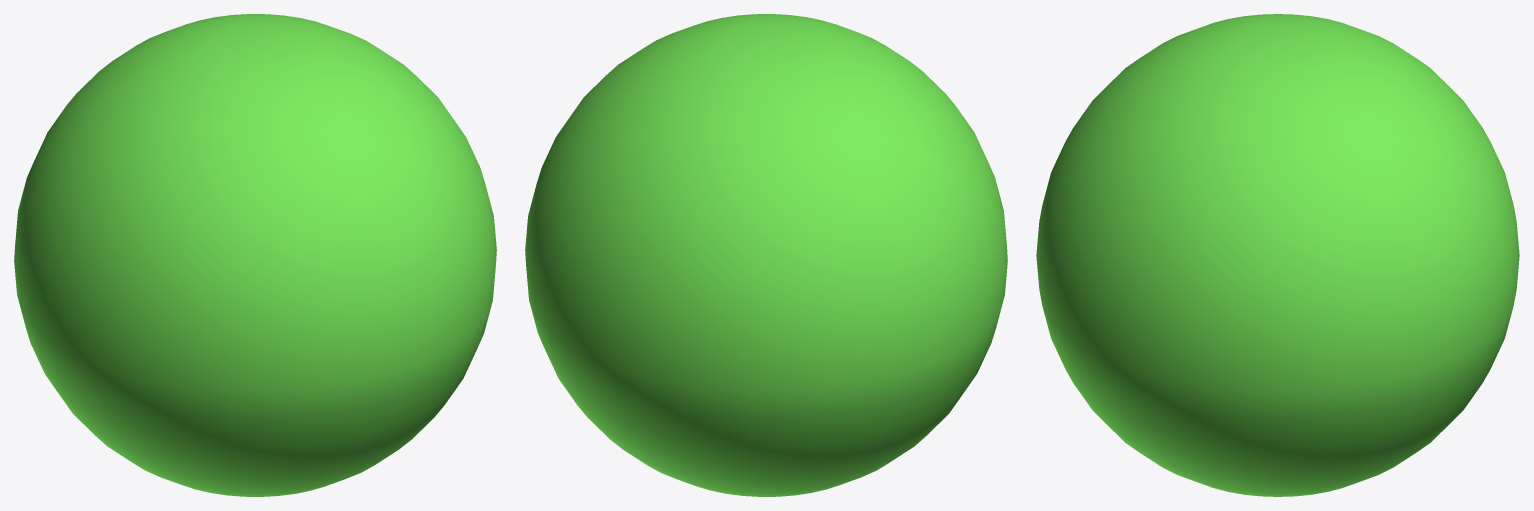
File: Marble_Type04_Star_001.fbx
3 views of the same model, side by side, from view 1: azimuth 30°, elevation 25°; view 2: azimuth 150°, elevation 25°; view 3: azimuth 270°, elevation 25° (orthographic).
Parts seen in each view (by area): view 1: Marble_Type04_EXT_001; view 2: Marble_Type04_EXT_001; view 3: Marble_Type04_EXT_001.
Boxes of the visible parts, x1,y1,x2,y2 form: Marble_Type04_EXT_001: [14, 14, 496, 496]; Marble_Type04_EXT_001: [525, 14, 1007, 496]; Marble_Type04_EXT_001: [1036, 14, 1519, 496].
Size of the model in its own units: 100 by 100 by 100.
